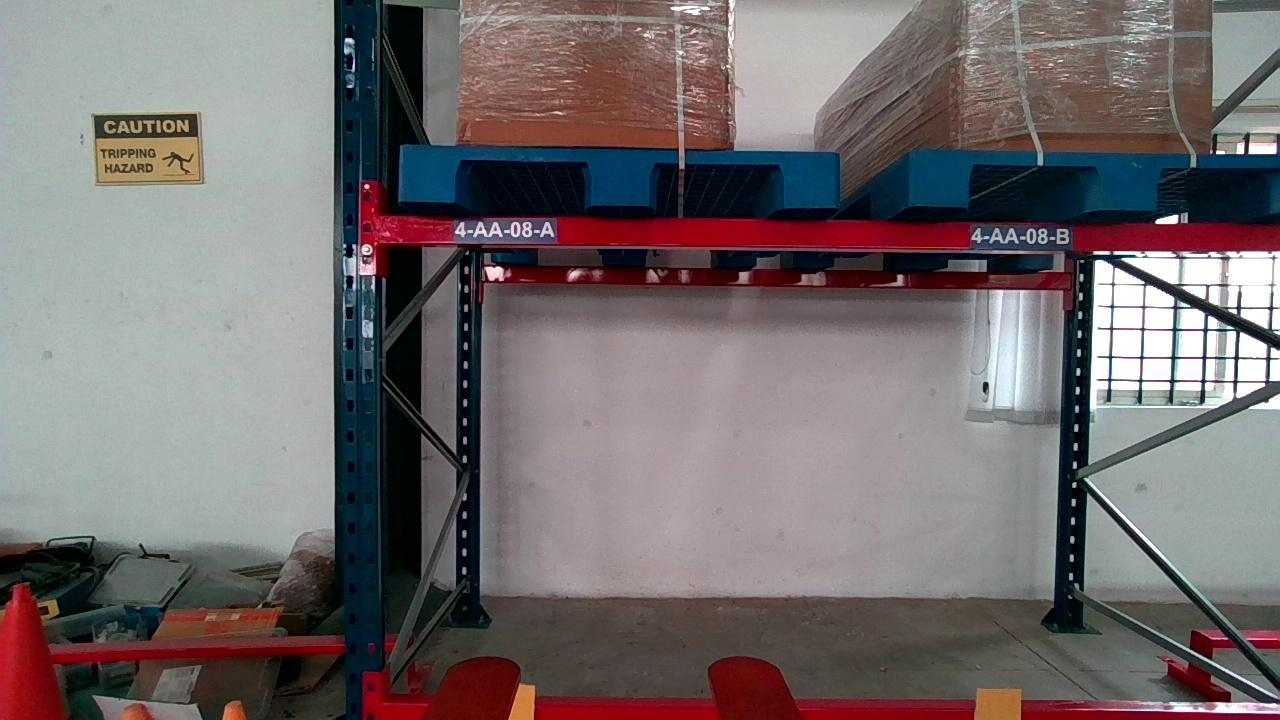h_rack: (380, 210, 1274, 250)
small_pallet: (397, 146, 837, 207), (912, 151, 1280, 216)
